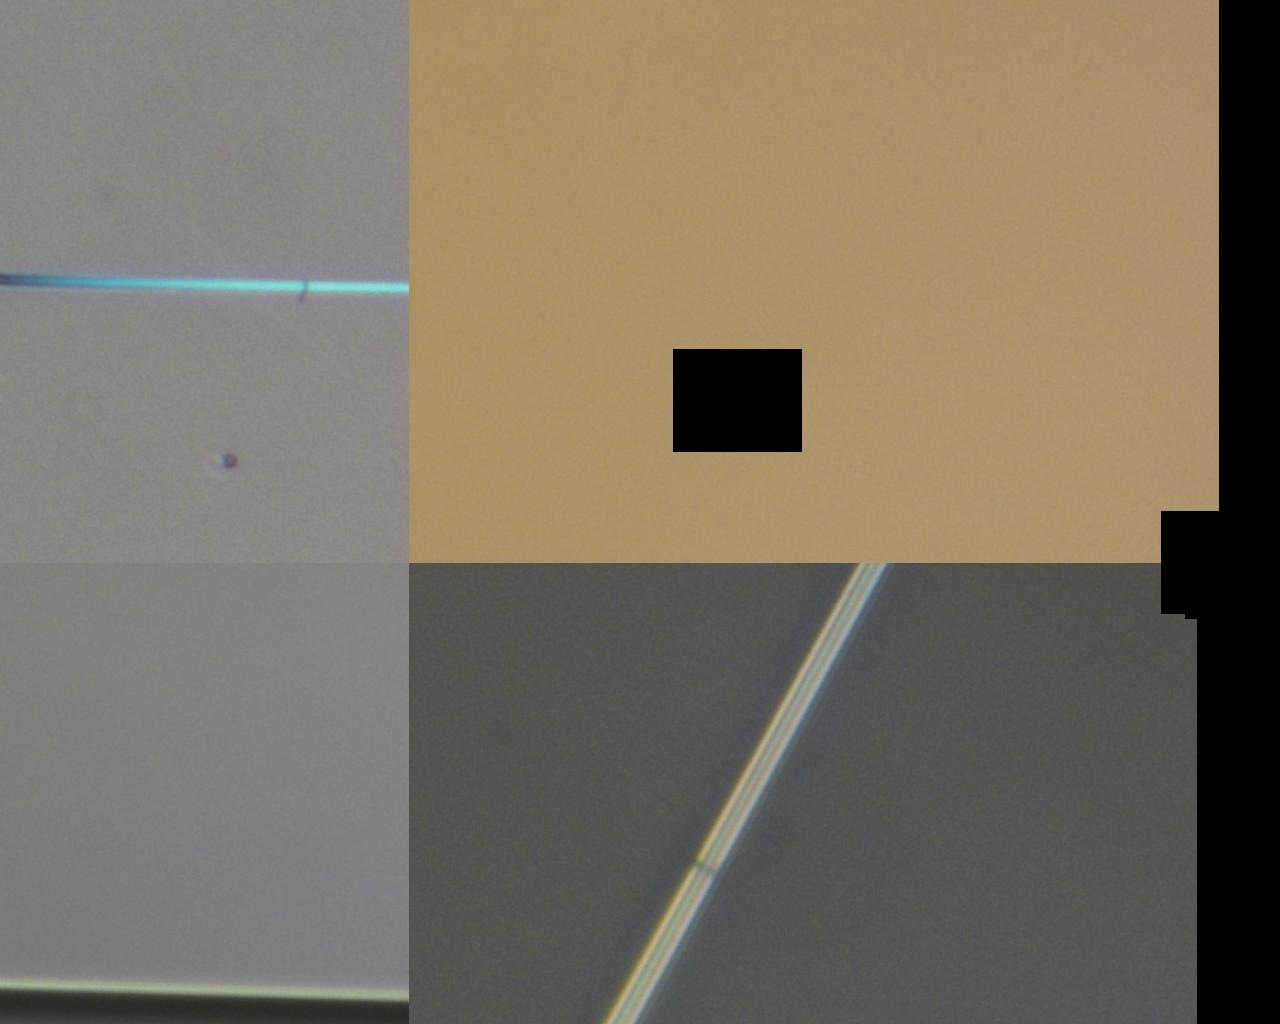fiber: (604, 563, 887, 1024), (0, 274, 409, 293)
